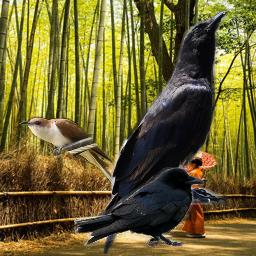Crow: (93, 9, 228, 254), (74, 167, 204, 247)
Cuckoo: (19, 116, 138, 207)
